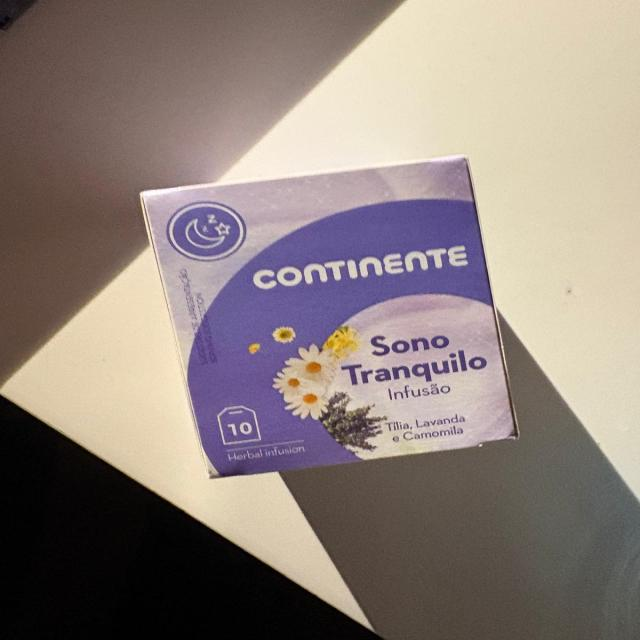good_package: (138, 154, 522, 477)
